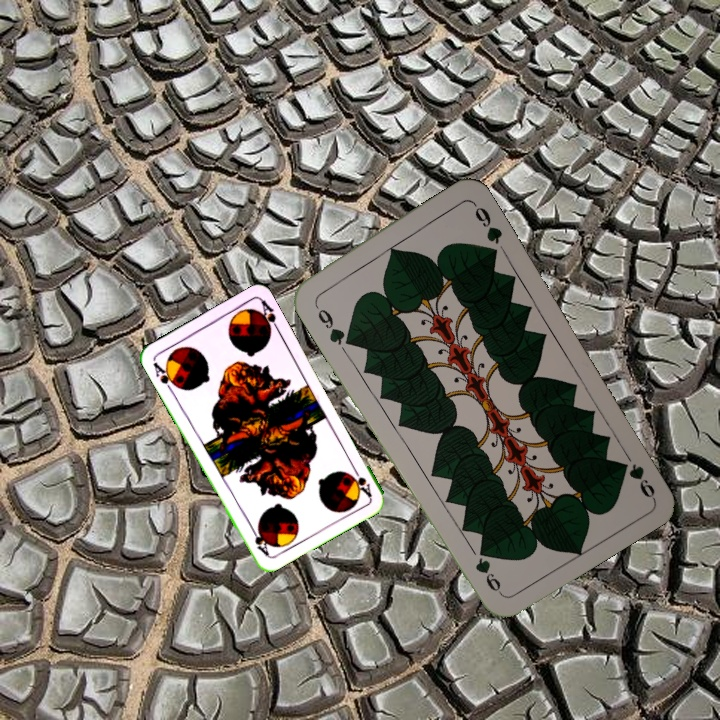G9: (309, 298, 352, 348), (617, 458, 658, 501)
SA: (149, 358, 181, 395), (345, 462, 374, 499)
